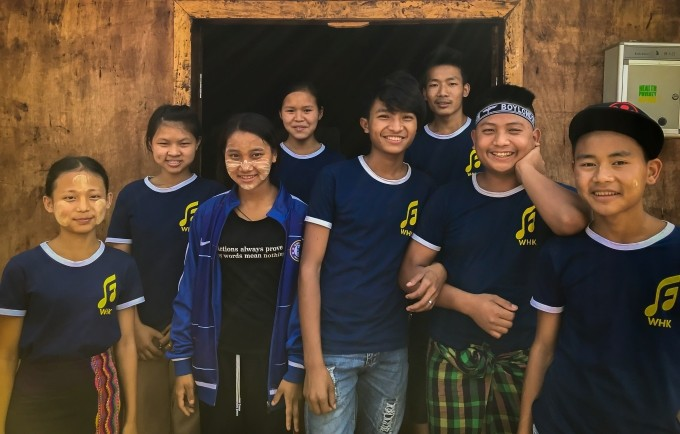person: (515, 97, 679, 431), (418, 87, 562, 431), (307, 78, 424, 432), (4, 151, 142, 432), (187, 111, 302, 431), (111, 96, 212, 275), (262, 80, 336, 173), (422, 48, 475, 137)
